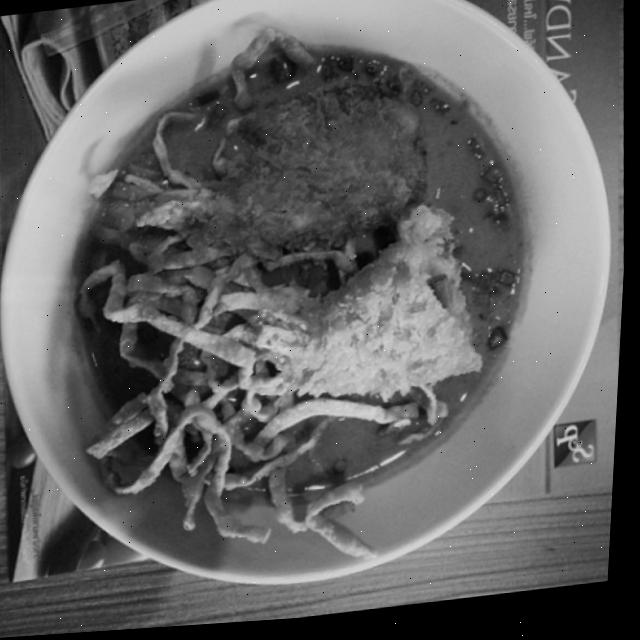面条主食: (27, 0, 581, 585)
